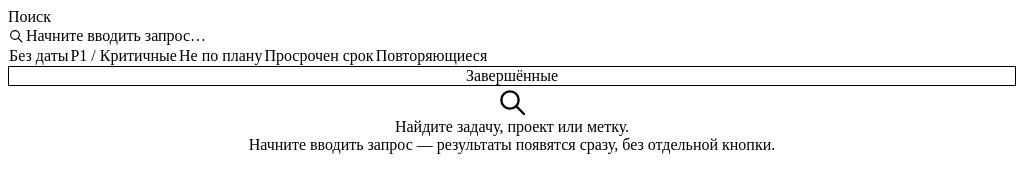
Scenario: Search — M35 Results, ранжирование (01§15) › exact title выше prefix выше title token выше substring — один и тот же запрос
The width and height of the screenshot is (1024, 171).
Type "хлеб" into the field named "Поиск по задачам, проектам и меткам" at point(520, 36), box [24, 26, 1016, 46]
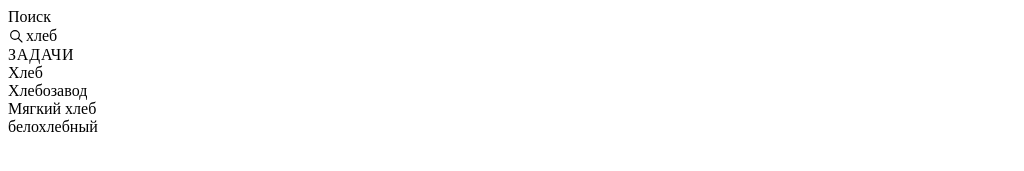
Expected: the text "Хлеб" is shown, [8, 64, 43, 82]
